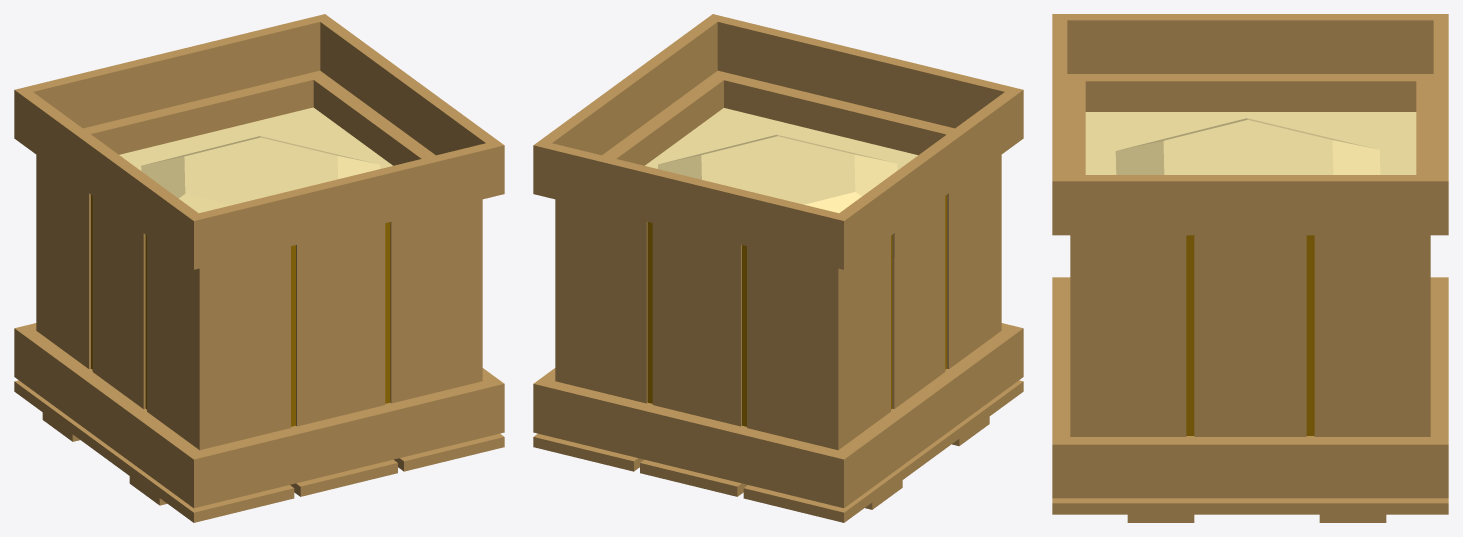
Rendered from Grain.fbx.
3 views of the same model, side by side, from view 1: azimuth 30°, elevation 25°; view 2: azimuth 150°, elevation 25°; view 3: azimuth 270°, elevation 25° (orthographic). The views are drawn at different scales.
Parts seen in each view (by area): view 1: Prop_Crate_Grain_01.002, Prop_Crate_Grain_01, Prop_Crate_Grain_01.001; view 2: Prop_Crate_Grain_01.002, Prop_Crate_Grain_01, Prop_Crate_Grain_01.001; view 3: Prop_Crate_Grain_01.002, Prop_Crate_Grain_01, Prop_Crate_Grain_01.001.
Part boxes in pixels (x1=…): Prop_Crate_Grain_01.002: x1=14, y1=14, x2=504, y2=522; Prop_Crate_Grain_01: x1=119, y1=107, x2=392, y2=212; Prop_Crate_Grain_01.001: x1=91, y1=195, x2=390, y2=426; Prop_Crate_Grain_01.002: x1=533, y1=14, x2=1023, y2=522; Prop_Crate_Grain_01: x1=645, y1=108, x2=917, y2=212; Prop_Crate_Grain_01.001: x1=647, y1=195, x2=946, y2=426; Prop_Crate_Grain_01.002: x1=1052, y1=14, x2=1448, y2=522; Prop_Crate_Grain_01: x1=1085, y1=112, x2=1416, y2=174; Prop_Crate_Grain_01.001: x1=1186, y1=235, x2=1314, y2=435.
Size of the model in its own units: 56.25 by 53.53 by 56.25.
